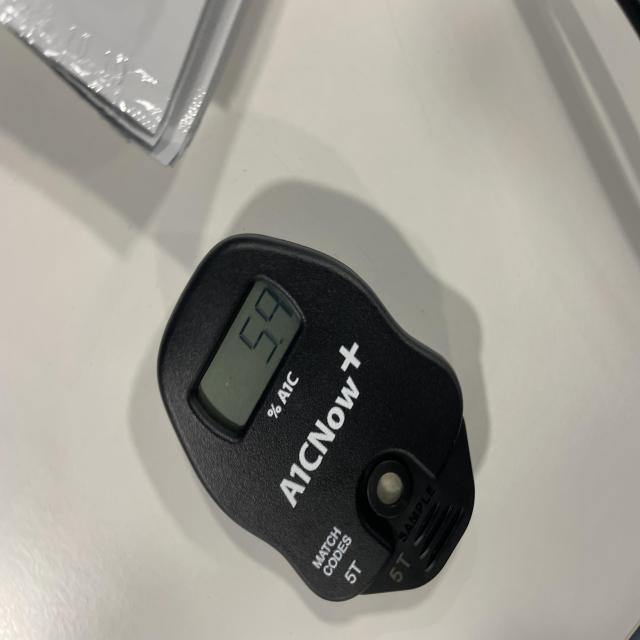hba1c: (155, 236, 476, 607)
